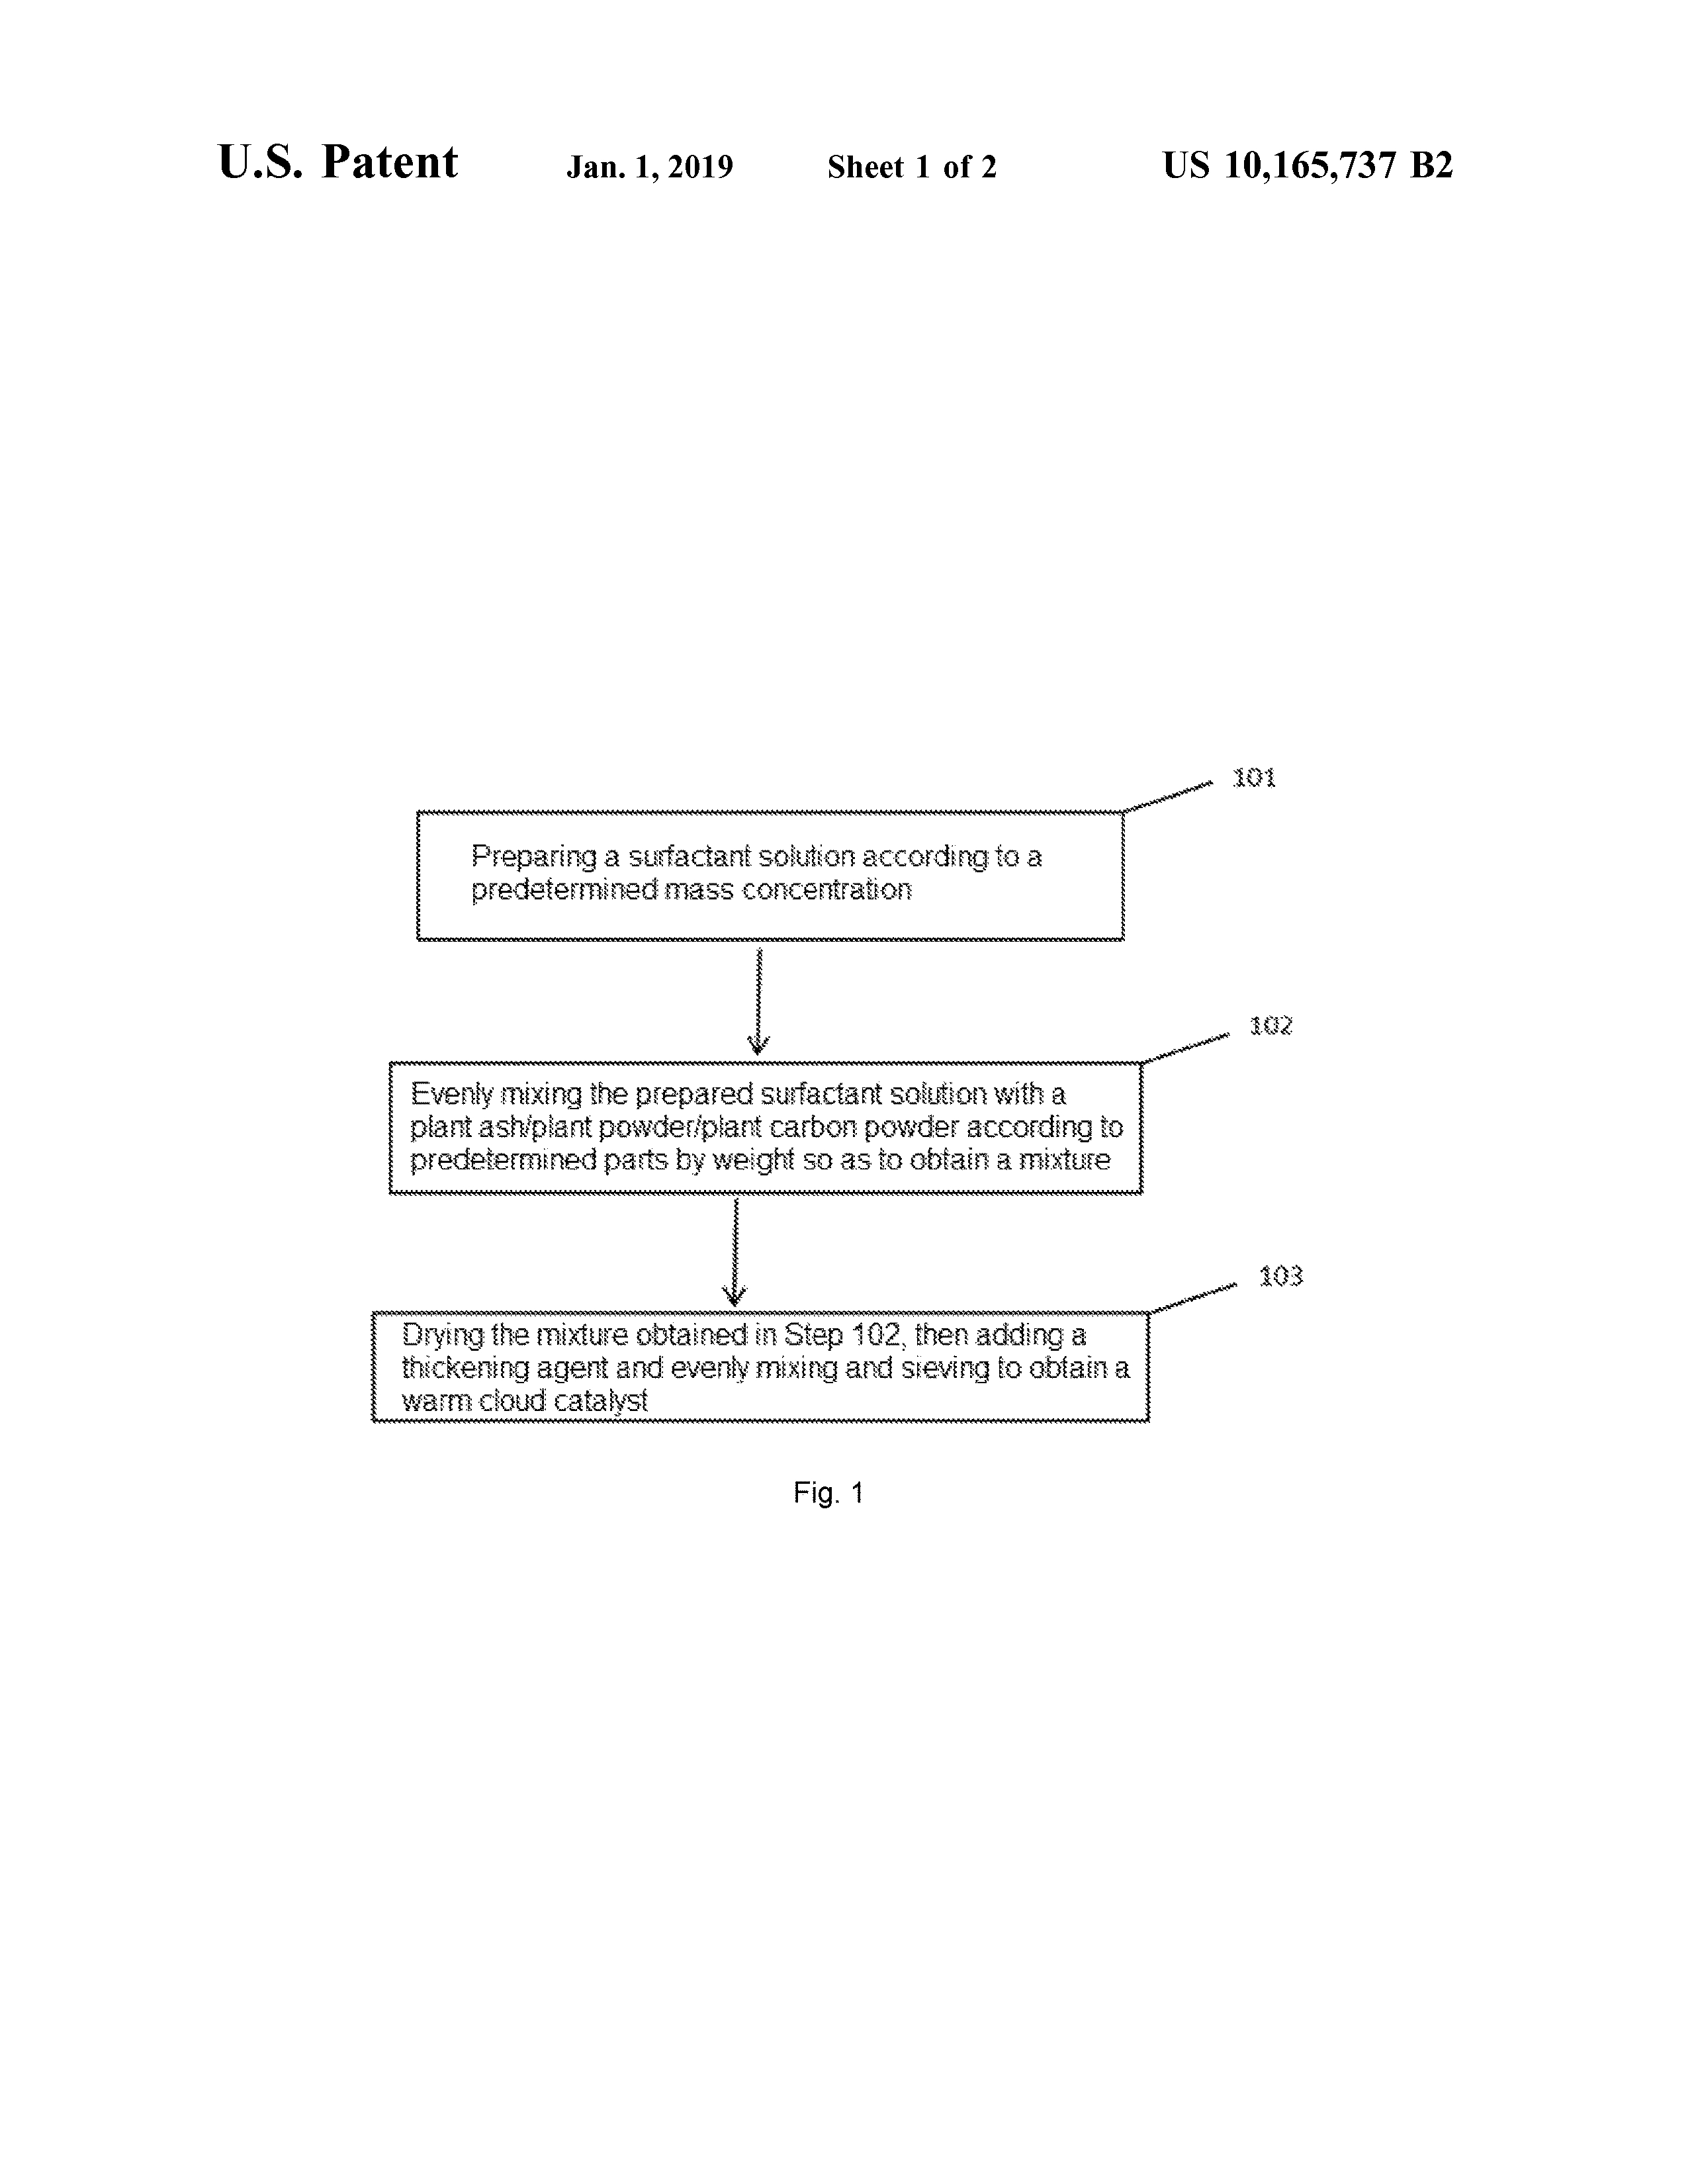patent image: (313, 702, 1349, 1563)
